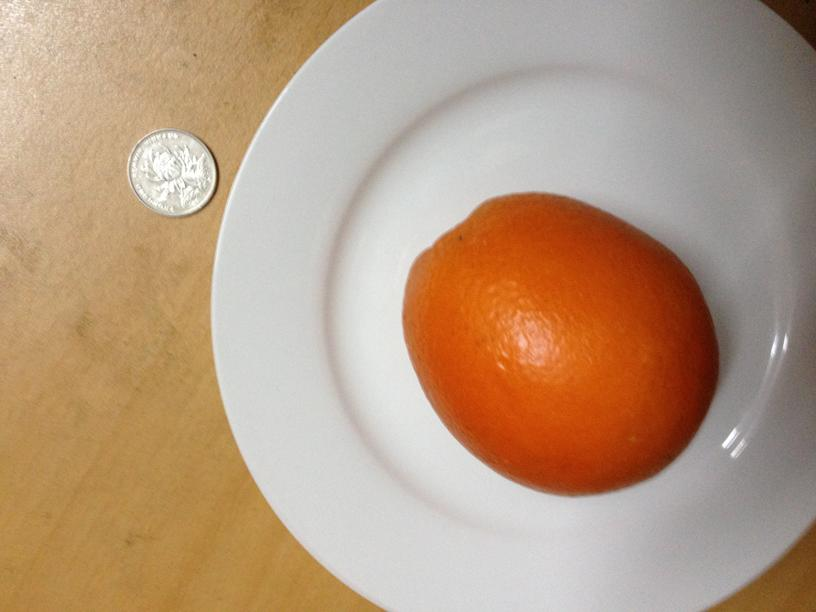coin: (124, 128, 218, 218)
orange: (398, 190, 718, 498)
